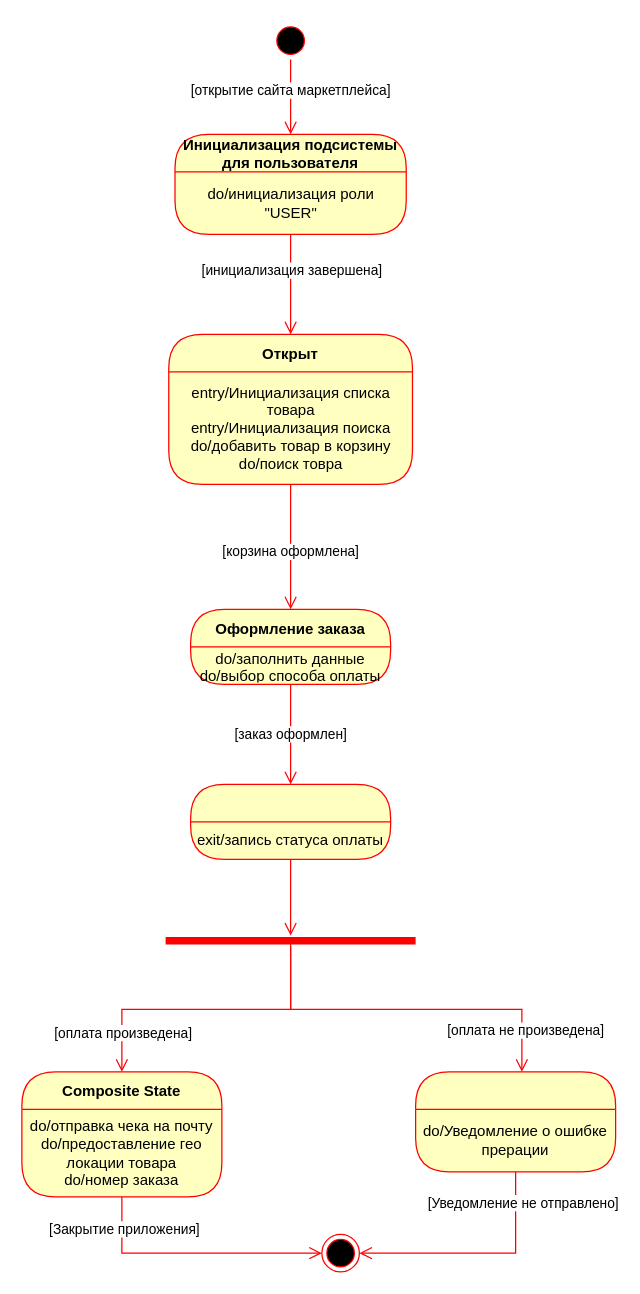
Image size: 640x1294. Some labels were removed from this diagram. The box of each missing label's shape, as (x1, y1, x2, y2) in pixels:
Оплата заказа: (189, 783, 391, 859)
Отмена заказа: (414, 1071, 616, 1172)
